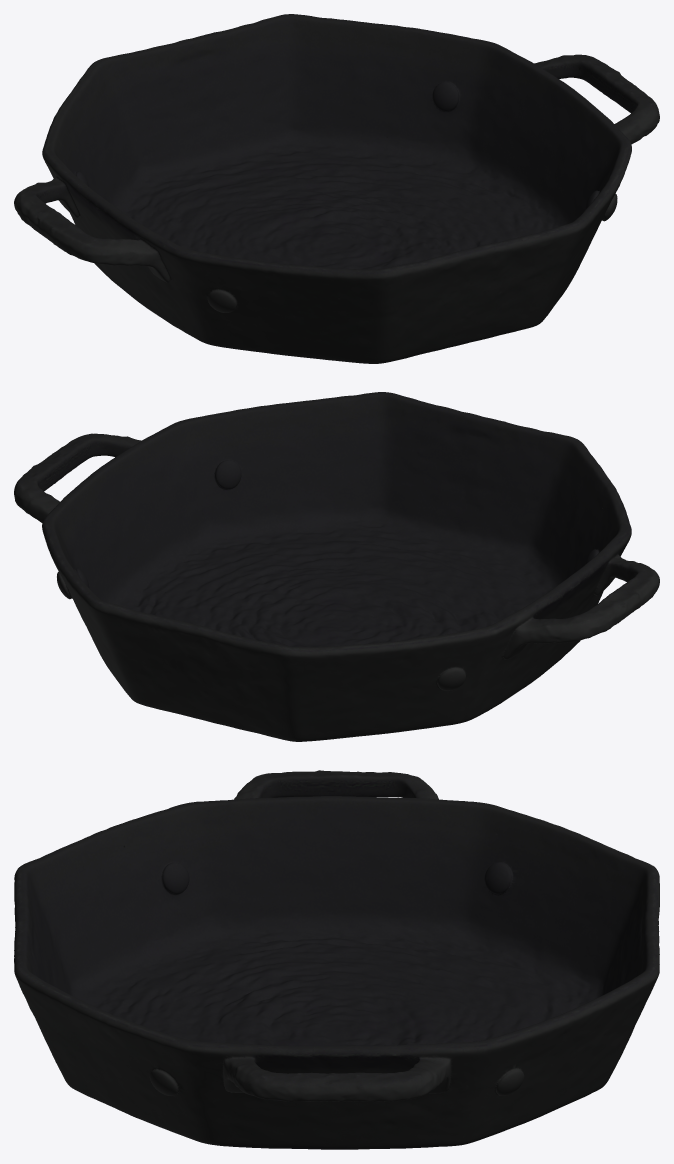
Rendered from pan.glb.
3 renders of one model, top to bottom at view 1: azimuth 30°, elevation 25°; view 2: azimuth 150°, elevation 25°; view 3: azimuth 270°, elevation 25°, orthographic. The views are drawn at different scales.
Size of the model in its own units: 1.9 by 0.355 by 1.63.
Materials: 1 (1 with a texture image).
